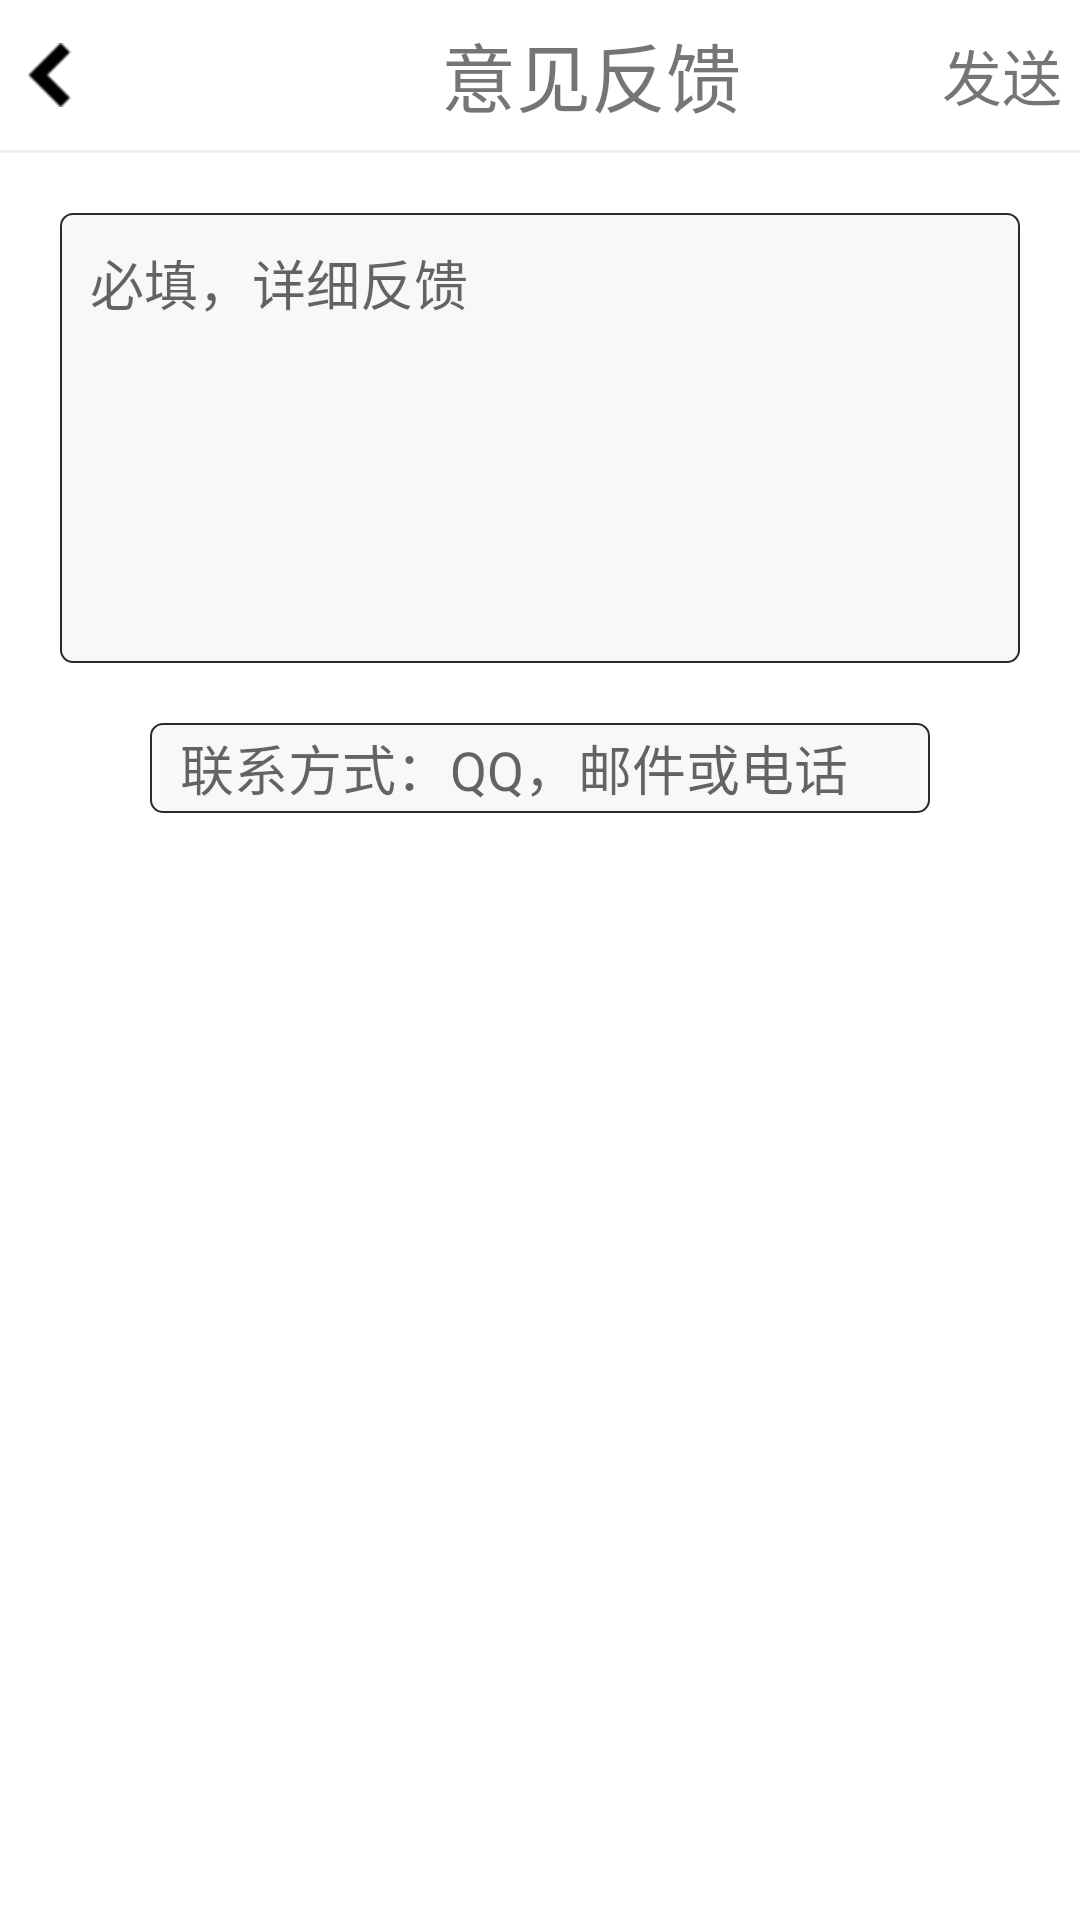

Icons on this 1080*1920 Android screen, each with the point to tap as (x=x, y=y):
back: (x=49, y=75)
